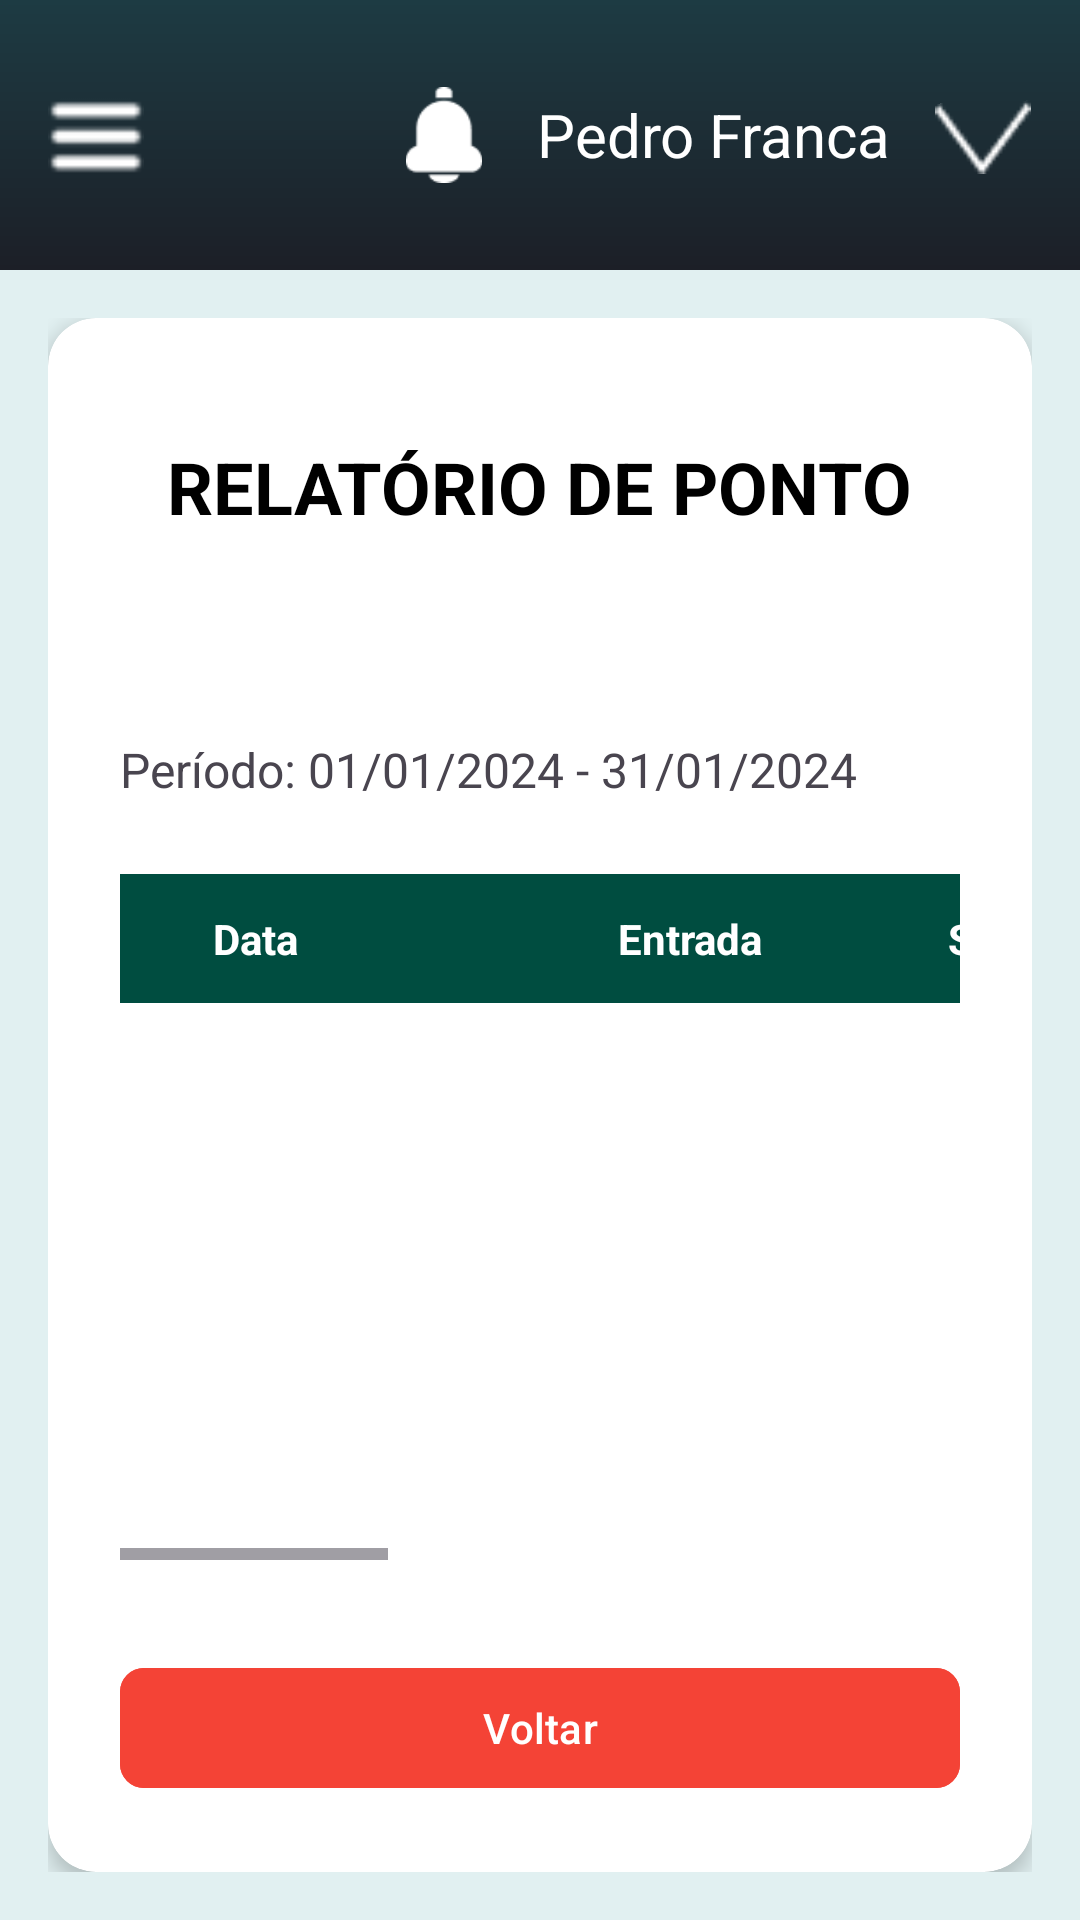

Named icons in this screenshot (1080w x 1920h) and their bounding boxes, (x1, y1, x2, y2):
menu: (50, 101, 142, 172)
notification bell: (406, 87, 482, 183)
